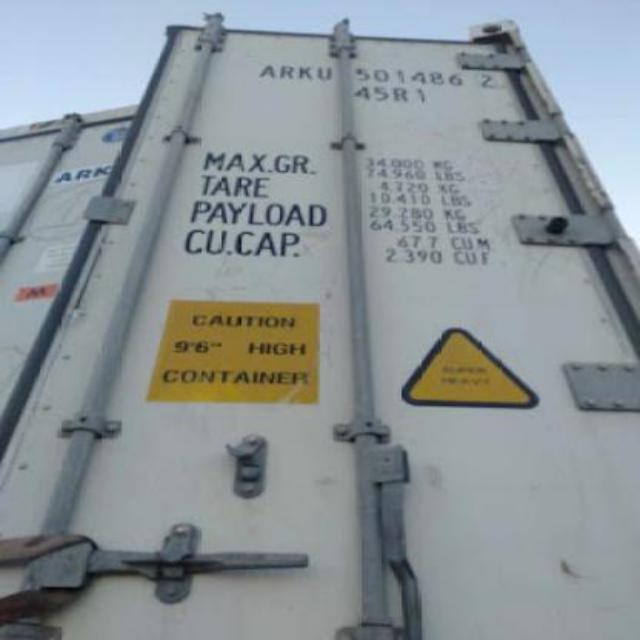0: (374, 68, 390, 82)
1: (396, 70, 406, 82)
2: (478, 72, 494, 88)
4: (408, 70, 428, 84)
5: (354, 65, 372, 81)
6: (448, 70, 464, 90)
8: (428, 70, 444, 86)
A: (260, 64, 278, 80)
K: (297, 64, 313, 80)
R: (280, 64, 296, 80)
U: (316, 66, 332, 80)
